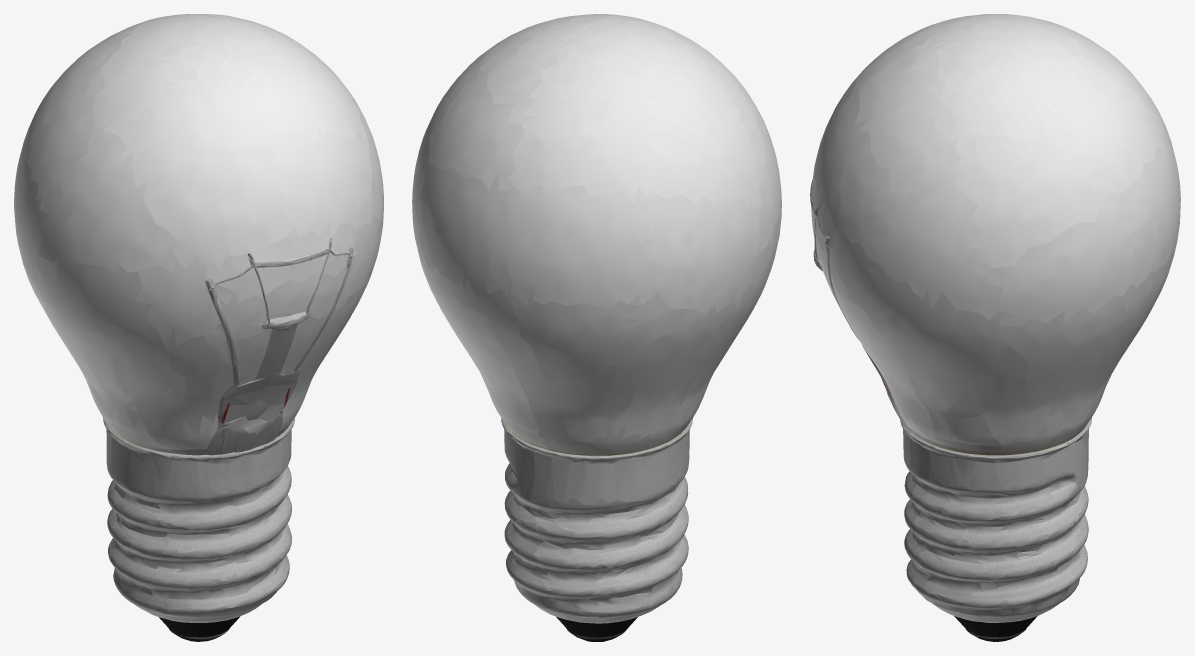
The model's file is Meshy_AI_Light_Bulb_Remesh_0924171130_texture.glb.
3 renders of one model, left to right at view 1: azimuth 30°, elevation 25°; view 2: azimuth 150°, elevation 25°; view 3: azimuth 270°, elevation 25°, orthographic.
Parts seen in each view (by area): view 1: output_unwrapped; view 2: output_unwrapped; view 3: output_unwrapped.
Part boxes in pixels (x1,y1,x2,y2): output_unwrapped: [14, 14, 383, 641]; output_unwrapped: [412, 14, 781, 641]; output_unwrapped: [810, 14, 1180, 641].
Bounding box in the file's own units: 1.05 × 1.9 × 1.06.
1 material, 1 textured.
